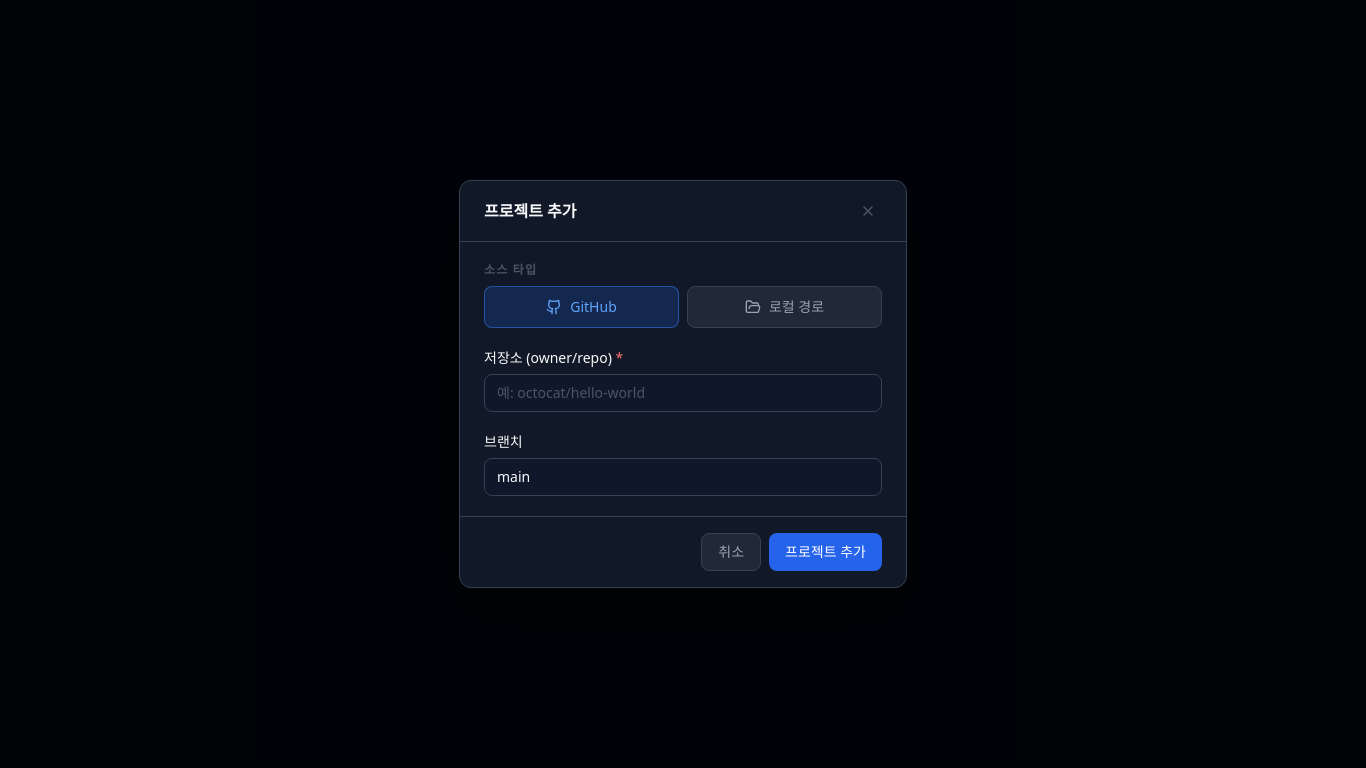
Test: AddProjectDialog › 로컬 탭 클릭 시 로컬 경로 입력 필드가 표시된다
Step 1. Click the button with test id "tab-local" → [784, 307], box [687,286,882,328]
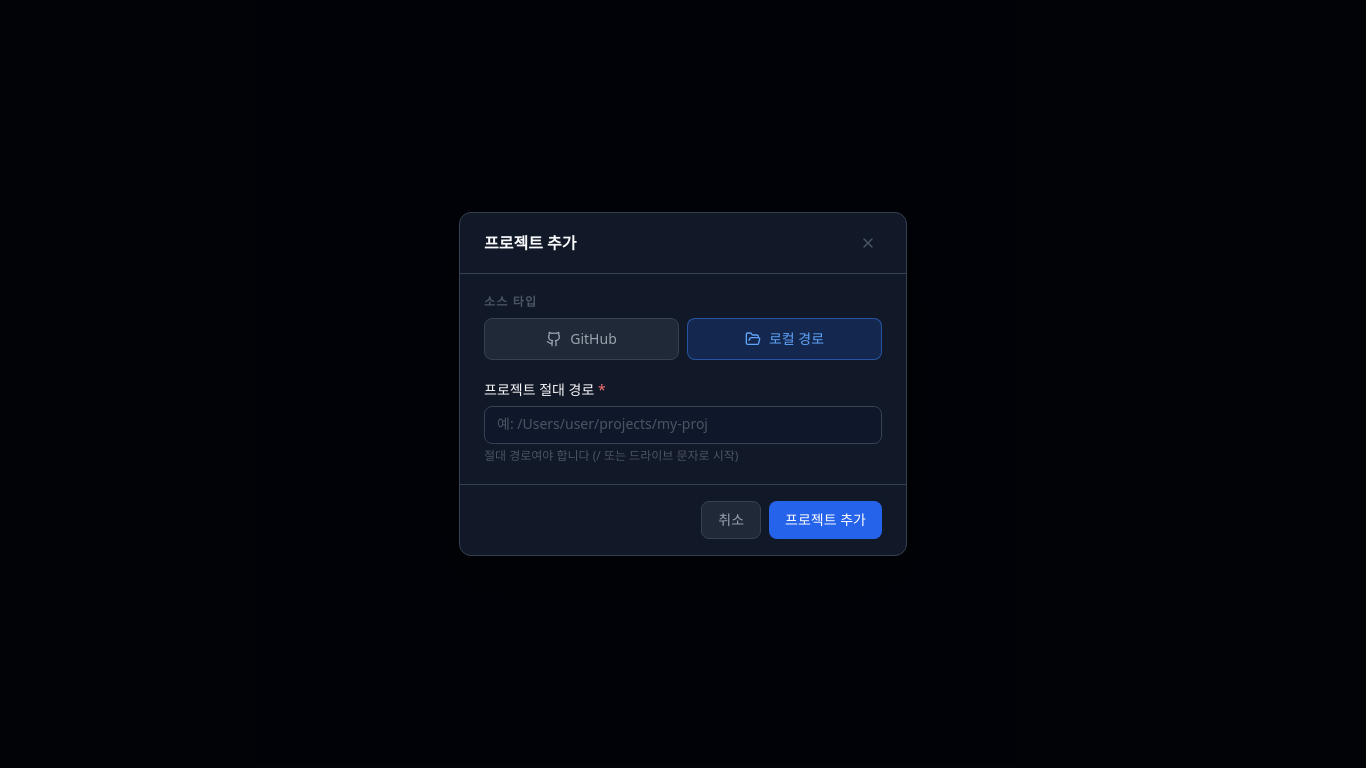
expect the field with test id "input-path" is shown: met, box [484,406,882,444]
